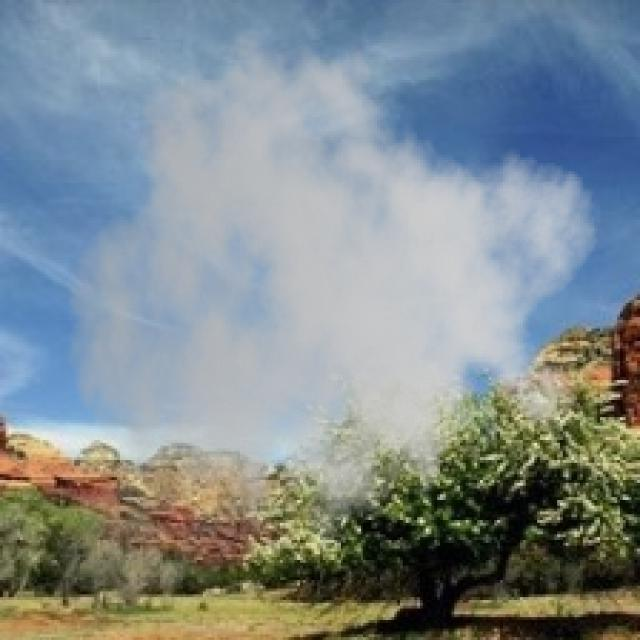Smoke: (65, 14, 600, 580)
